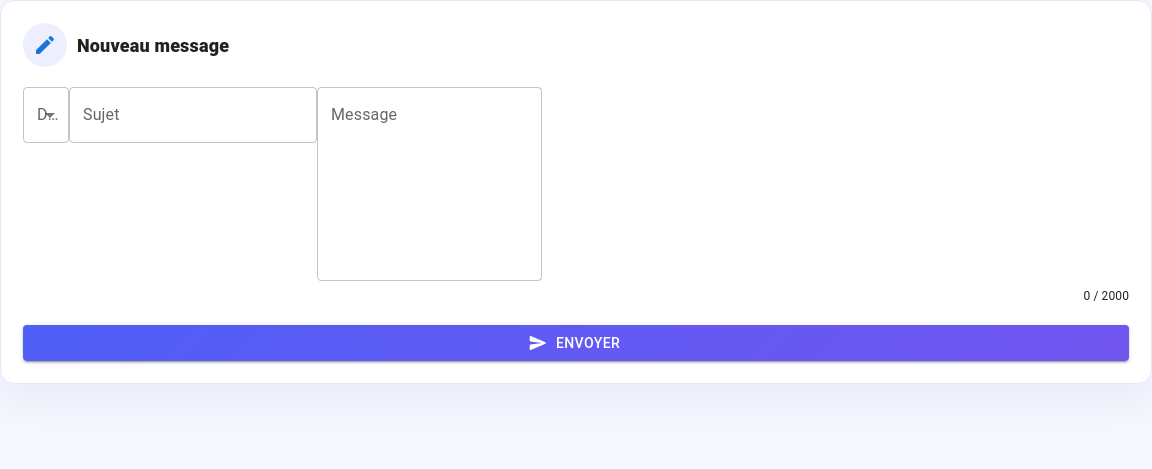
Scenario: MessageComposer › envoie un nouveau message au destinataire sélectionné
This screenshot has width=1152, height=469.
Click the dropdown named "Destinataire". click: x=46, y=115
box: [23,87,69,143]
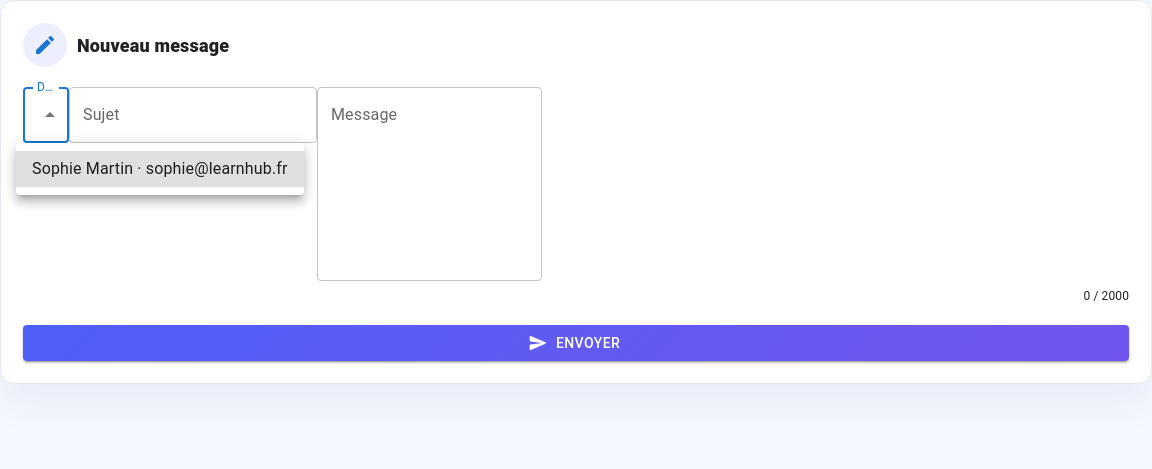
Click the option "Sophie Martin · sophie@learnhub.fr". click: x=160, y=169
box: [16,151,304,187]
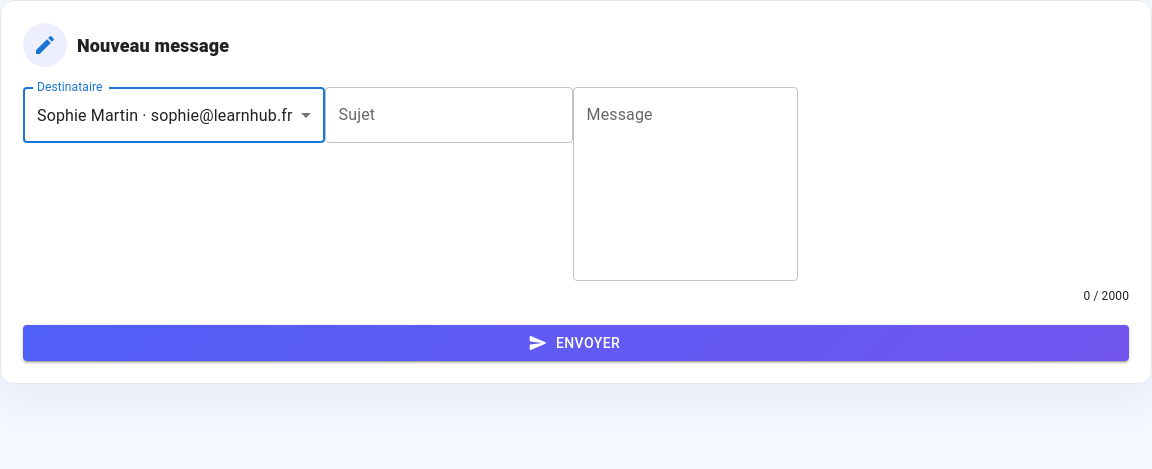
Type "Bonjour" into the field labelled "Sujet". click: x=448, y=115
box: [324,87,572,143]
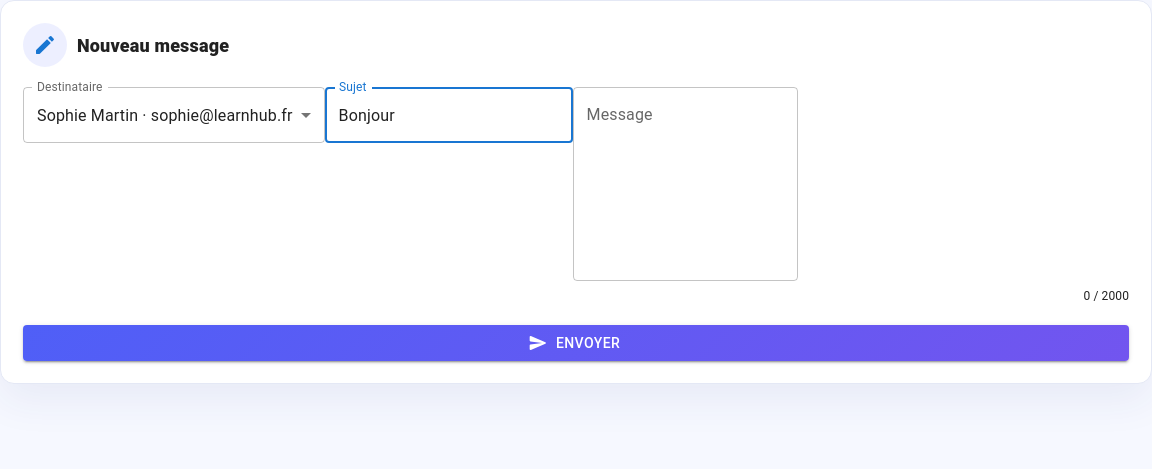
Type "Voici un message de test." into the text box labelled "Message". click: x=685, y=184
box: [586,104,784,264]
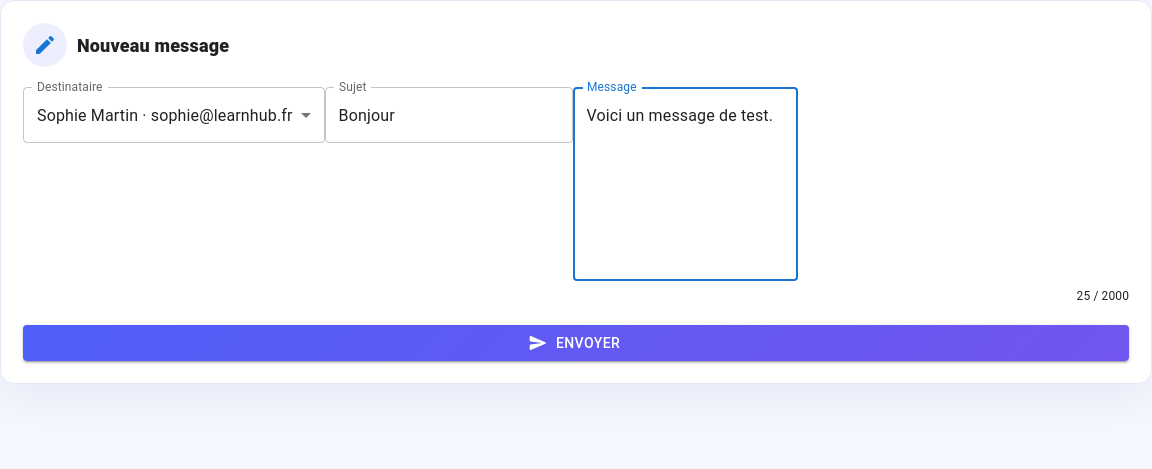
Click the button "Envoyer". click: x=576, y=343
box: [23,325,1129,361]
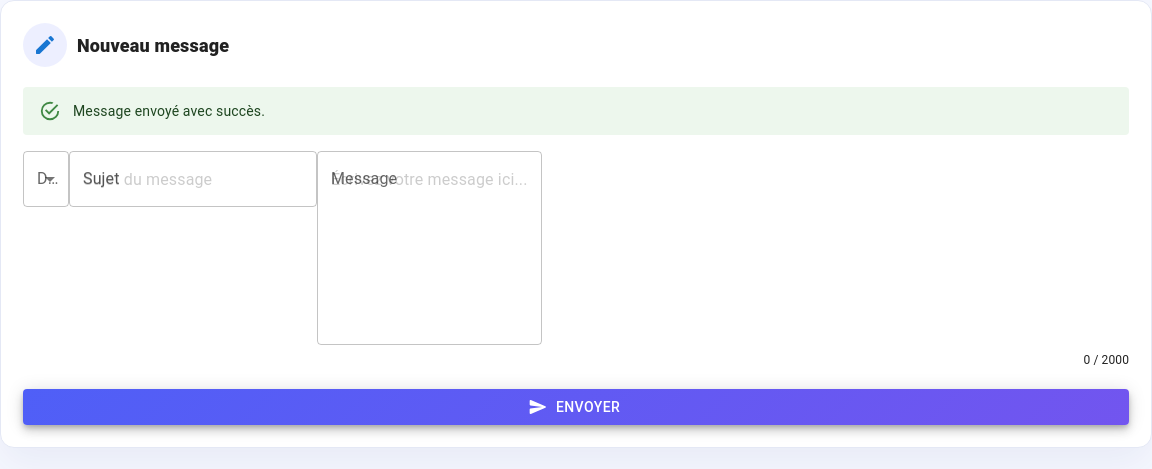
Result: the text "Message envoyé avec succès." is shown at [73,103,265,119]
